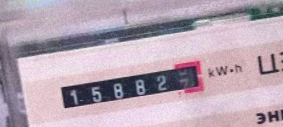1: (67, 87, 80, 106)
2: (154, 73, 167, 91)
5: (88, 84, 102, 103)
7: (177, 76, 189, 90)
8: (111, 80, 124, 99), (134, 77, 146, 95)
screen: (52, 56, 210, 114)
